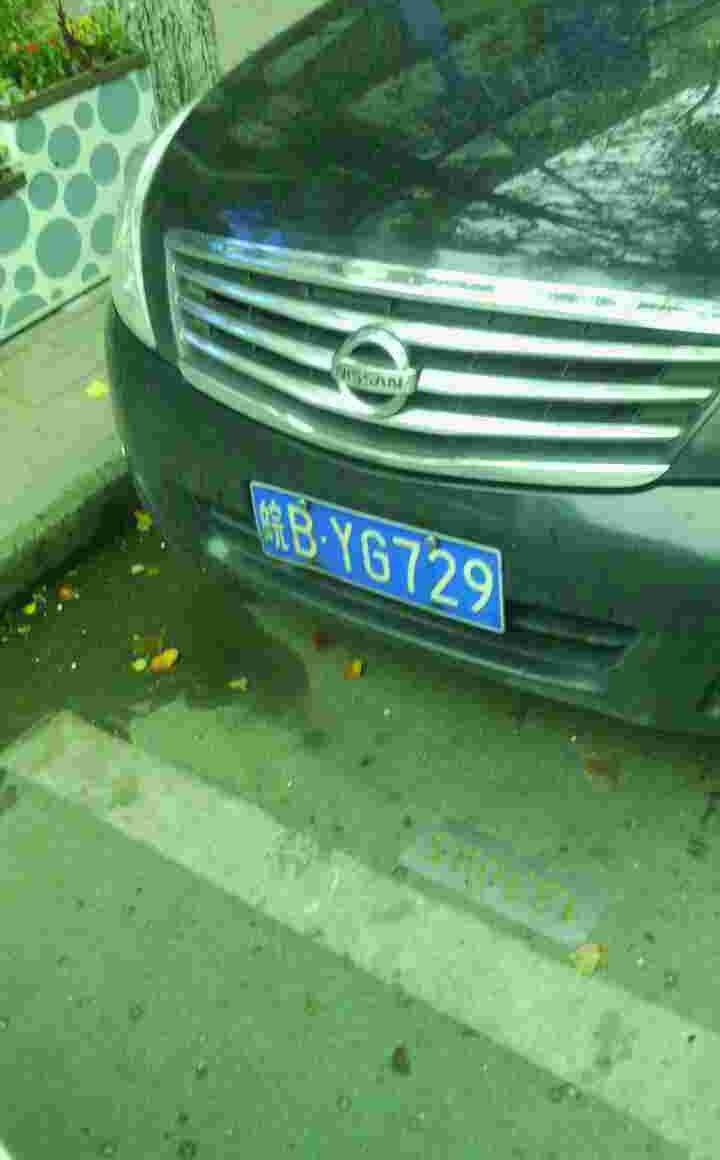license_plate: (250, 477, 493, 631)
